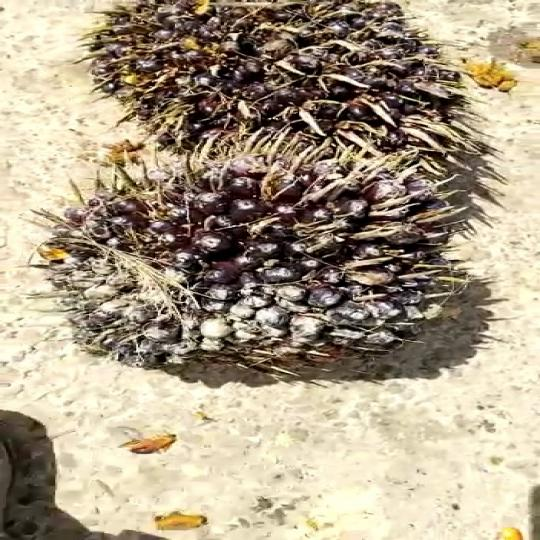mentah: (41, 133, 464, 380), (75, 0, 518, 203)
